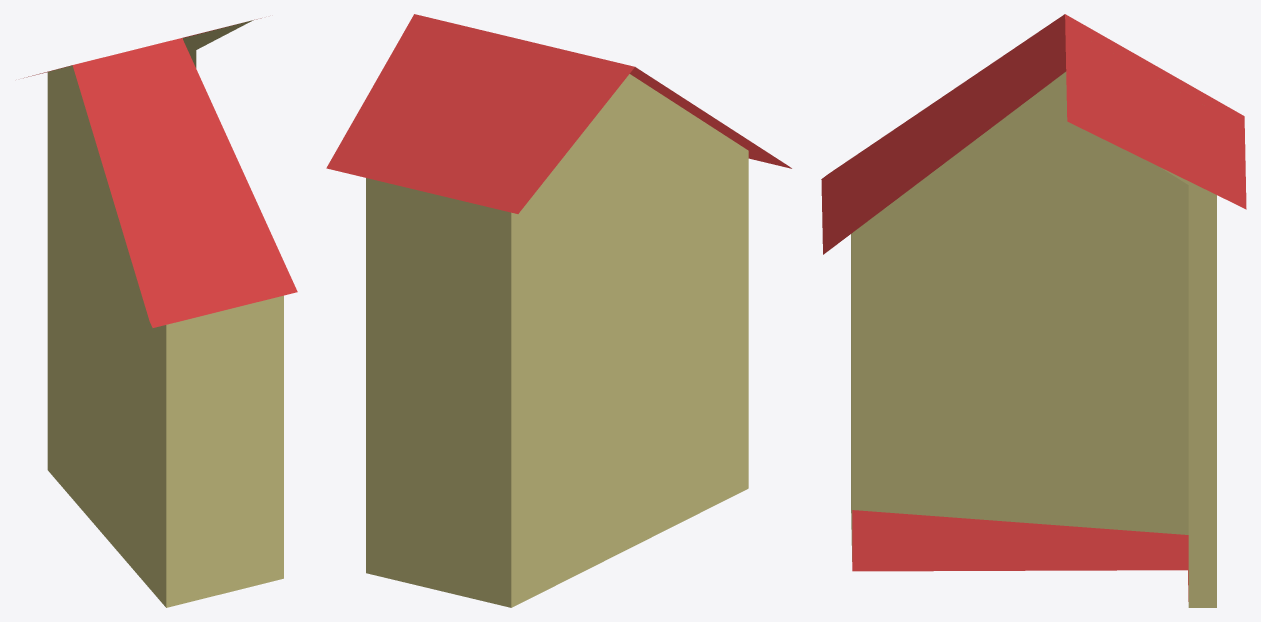
The picture shows the model from 3 angles, left to right: view 1: azimuth 30°, elevation 25°; view 2: azimuth 150°, elevation 25°; view 3: azimuth 270°, elevation 25°; orthographic projection. The views are drawn at different scales.
Size of the model in its own units: 7.59 by 10.88 by 14.1.
